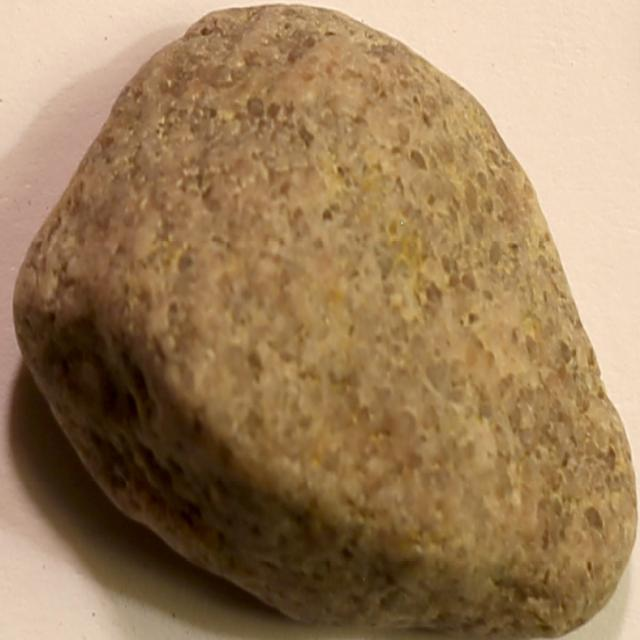stone: (13, 3, 640, 640)
